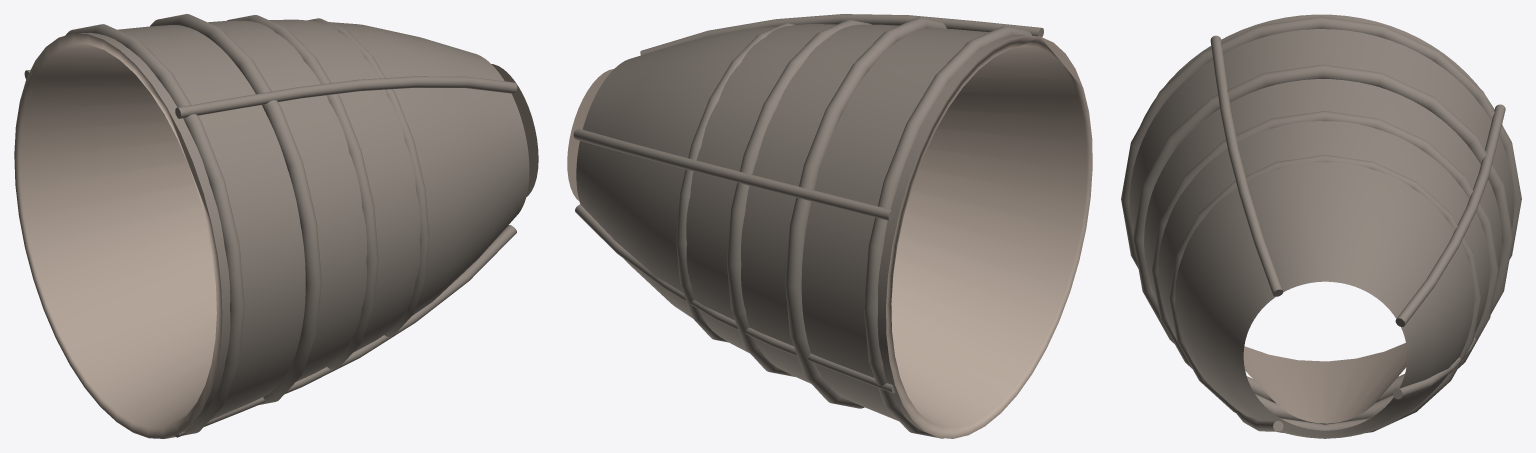
File: space-shuttle-d-3.glb
3 renders of one model, left to right at view 1: azimuth 30°, elevation 25°; view 2: azimuth 150°, elevation 25°; view 3: azimuth 270°, elevation 25°, orthographic. The views are drawn at different scales.
Visible parts, largest first — view 1: eng.layer1; view 2: eng.layer1; view 3: eng.layer1.
Boxes of the visible parts, x1,y1,x2,y2 form: eng.layer1: [14, 14, 538, 438]; eng.layer1: [567, 14, 1092, 438]; eng.layer1: [1121, 14, 1521, 438].
Bounding box in the file's own units: 103 × 97 × 97.
